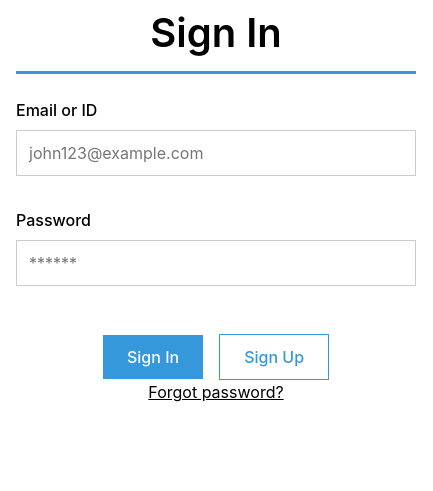
Test: SignIn Component › handles authentication failure
Type "wrong@test.com" into the field labelled "Email or ID" at (216, 153), box [16,130,416,176]
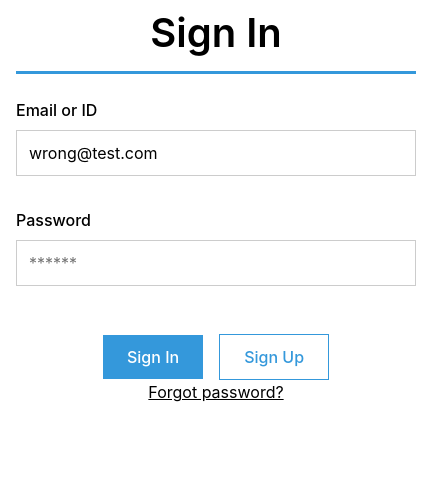
Type "wrongpassword" into the password field labelled "Password" at (216, 263), box [16,240,416,286]
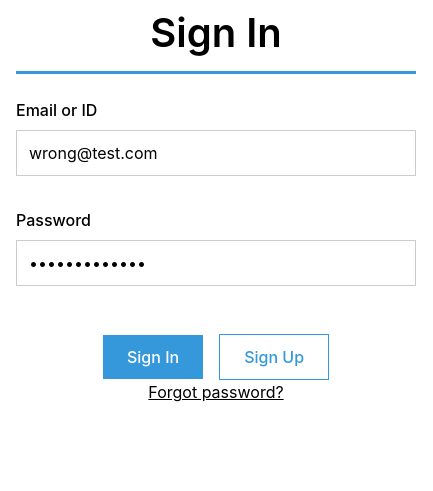
Click the button "Sign In" at (153, 357), box [103,335,203,379]
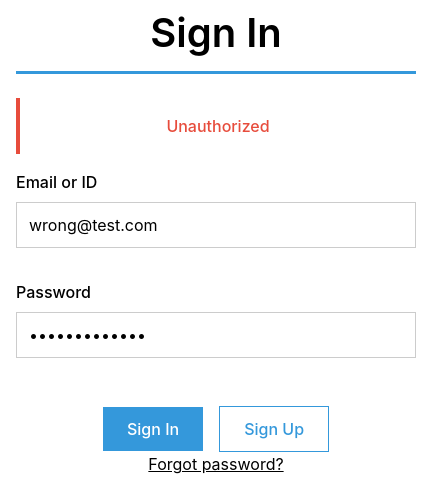
Now the text "Unauthorized" is shown, box [16,98,416,154]
